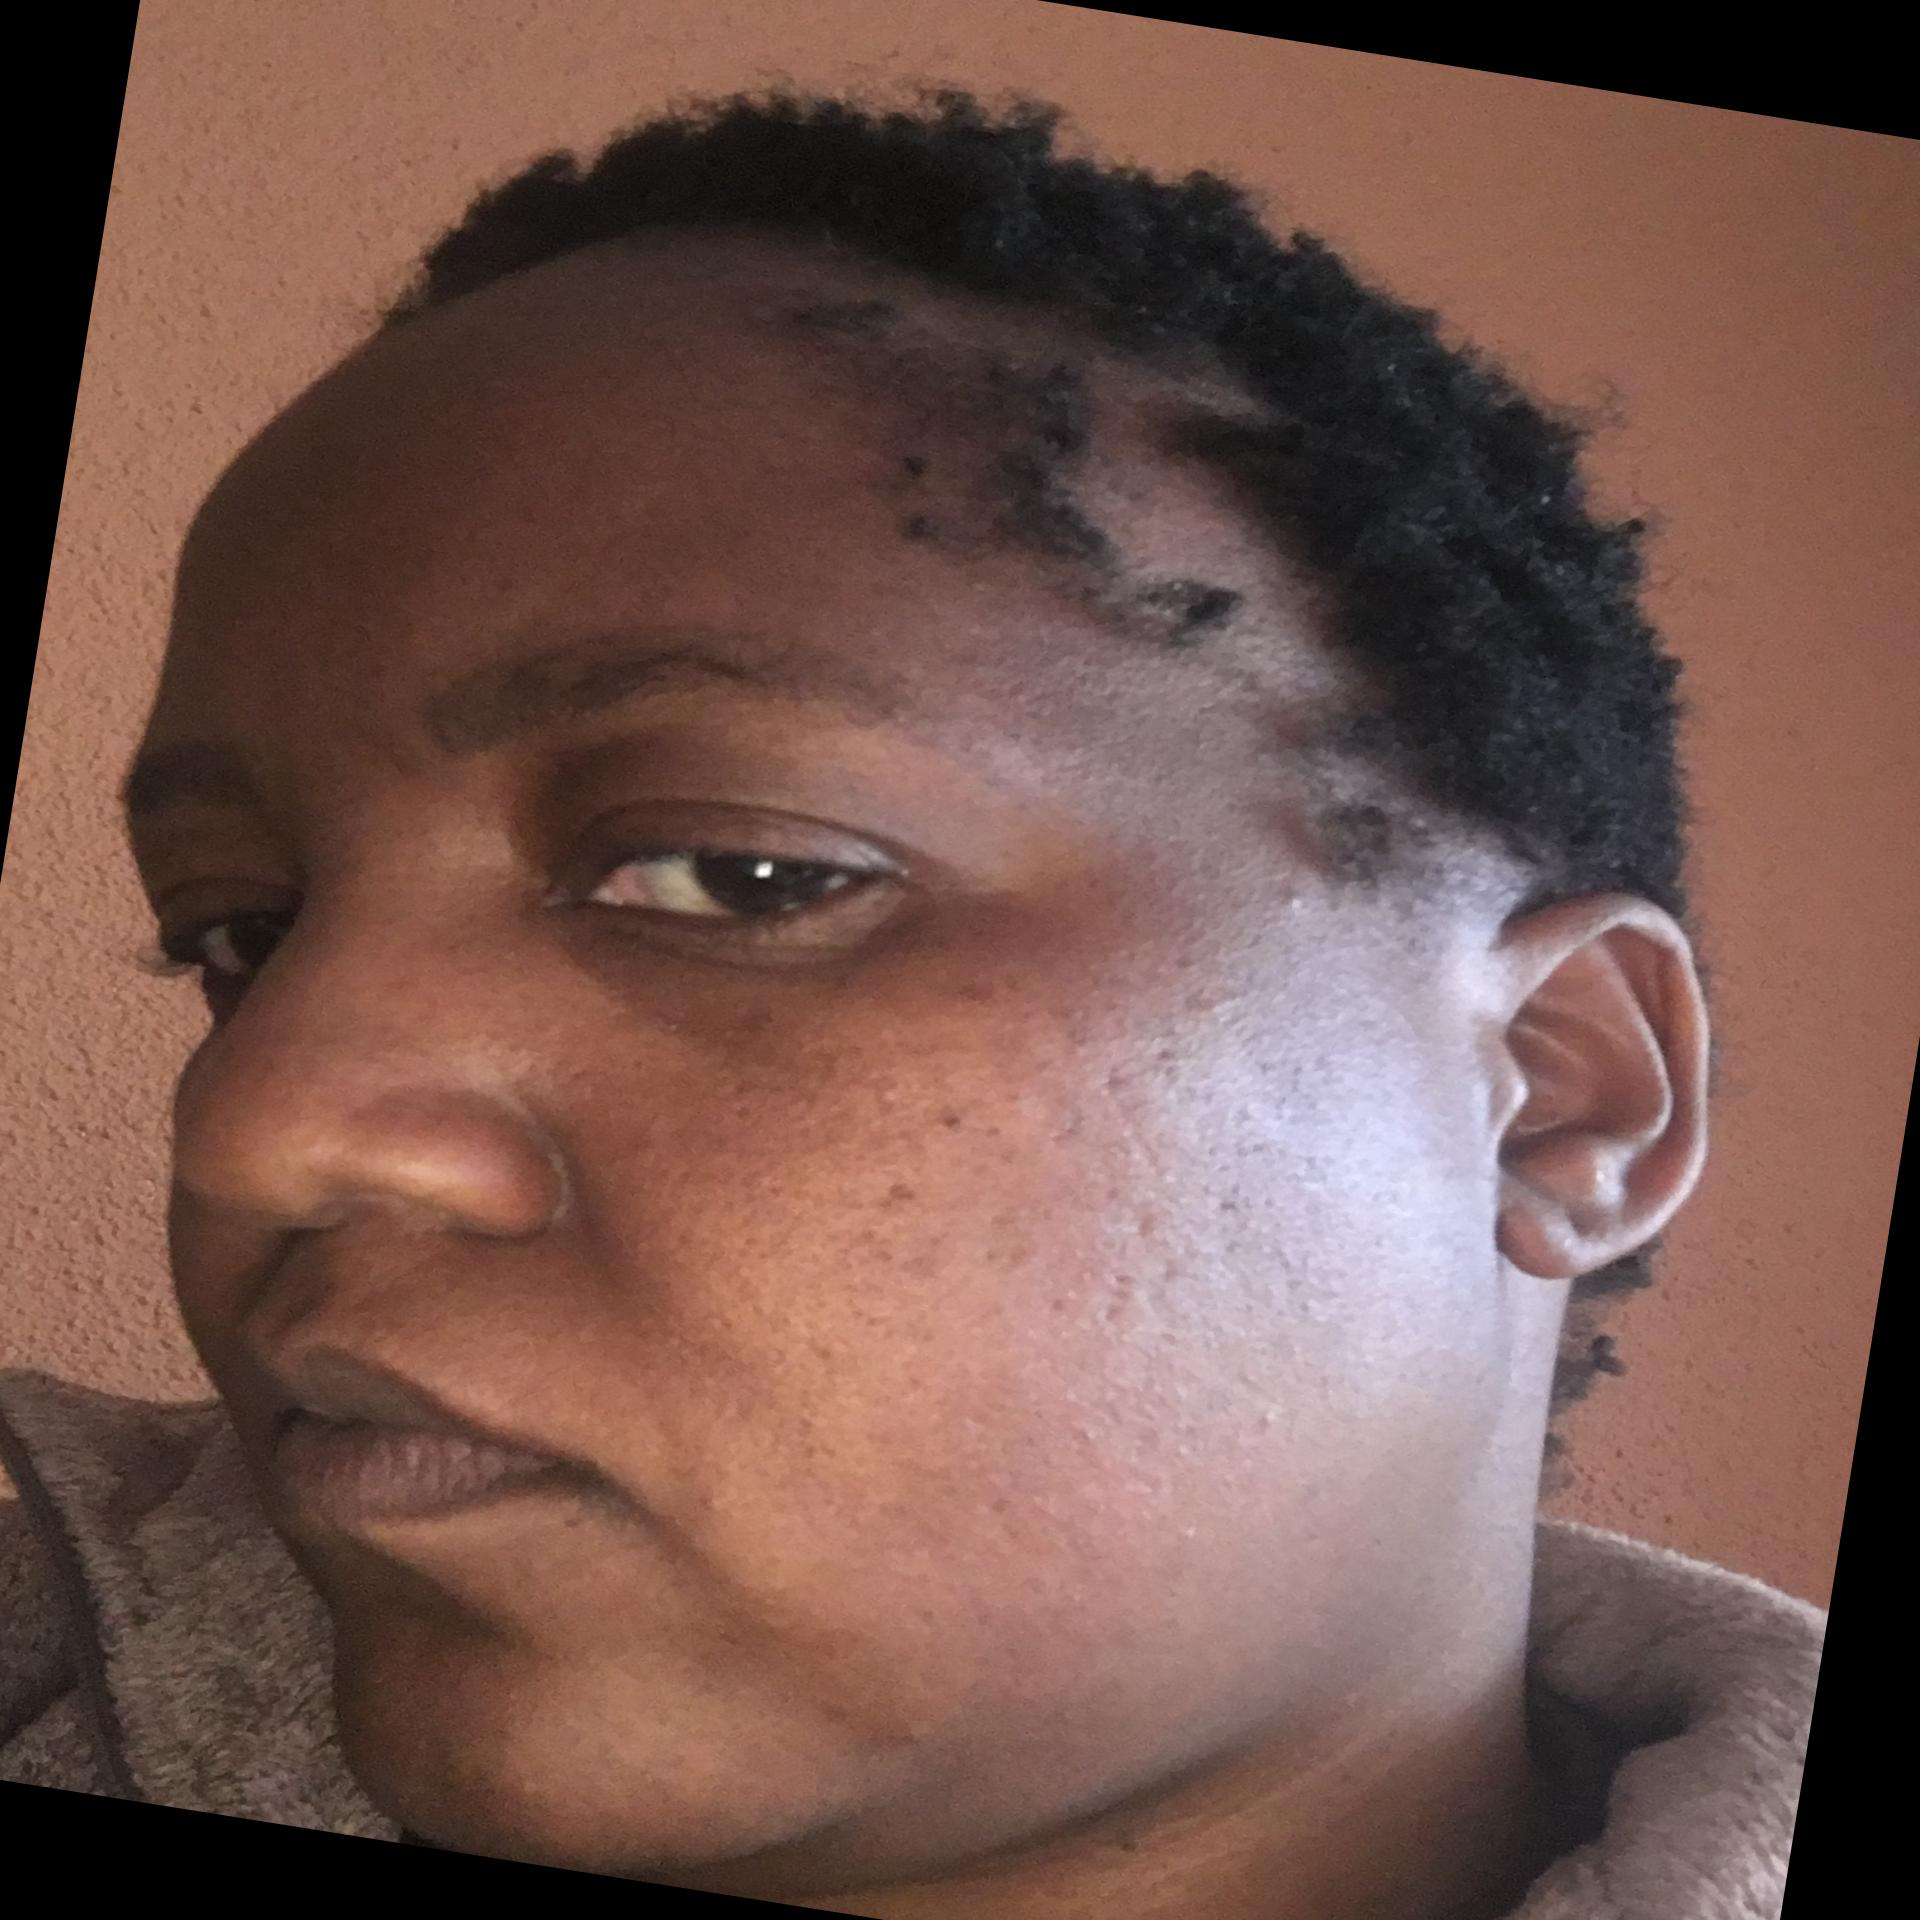Englarged Pores: (652, 1013, 988, 1482), (953, 965, 1327, 1363)
Wrinkles: (874, 1171, 932, 1213), (935, 1102, 978, 1138), (1273, 886, 1317, 920)
